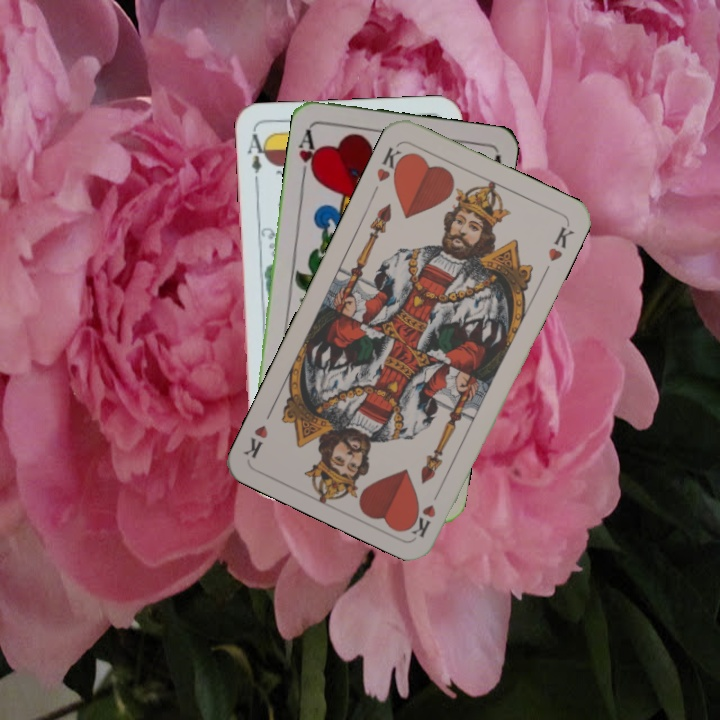EA: (243, 129, 270, 187)
HA: (294, 124, 322, 183)
HK: (407, 483, 445, 540), (372, 142, 410, 185)
